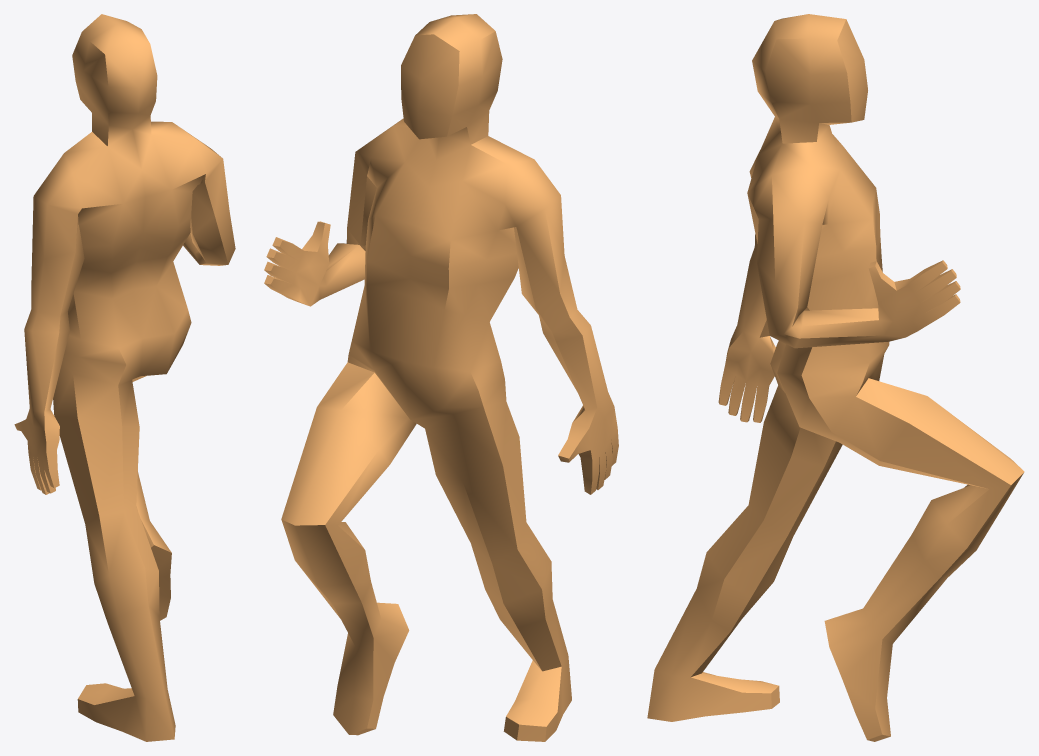
The model's file is human7.obj.
3 views of the same model, side by side, from view 1: azimuth 30°, elevation 25°; view 2: azimuth 150°, elevation 25°; view 3: azimuth 270°, elevation 25° (orthographic). The views are drawn at different scales.
Visible parts, largest first — view 1: HumanMale; view 2: HumanMale; view 3: HumanMale.
Boxes of the visible parts, x1,y1,x2,y2 form: HumanMale: (14,14,235,741); HumanMale: (264,14,618,741); HumanMale: (647,14,1024,741).
Bounding box in the file's own units: 0.6377 × 1.8 × 0.8608.
